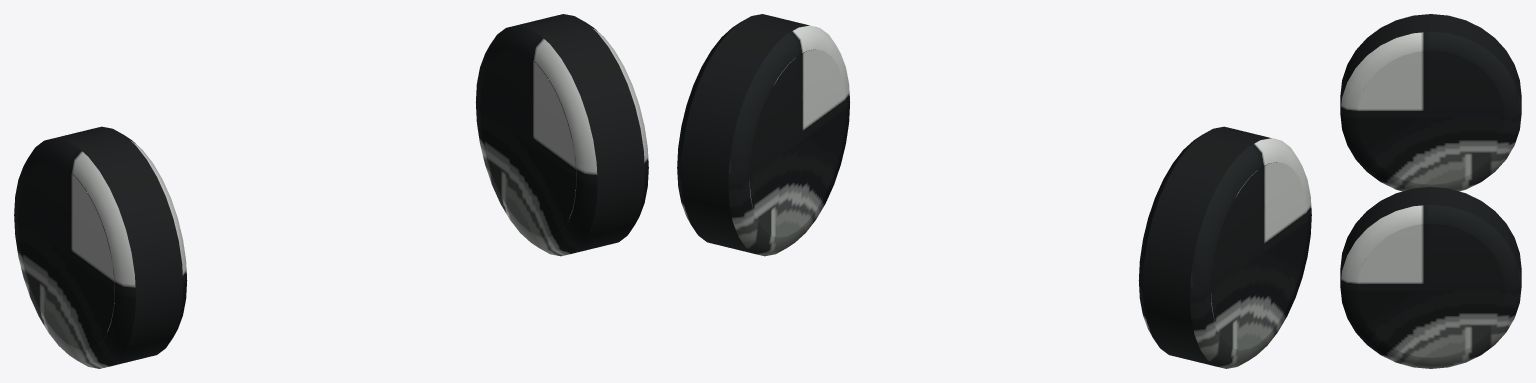
The model's file is hatch_83_popup_wheels_f.obj.
3 renders of one model, left to right at view 1: azimuth 30°, elevation 25°; view 2: azimuth 150°, elevation 25°; view 3: azimuth 270°, elevation 25°, orthographic. The views are drawn at different scales.
Parts seen in each view (by area): view 1: hatch_83_popup_wheels_f; view 2: hatch_83_popup_wheels_f; view 3: hatch_83_popup_wheels_f.
Part boxes in pixels (bbox=[...]): hatch_83_popup_wheels_f: bbox=[14, 14, 648, 368]; hatch_83_popup_wheels_f: bbox=[677, 14, 1311, 368]; hatch_83_popup_wheels_f: bbox=[1340, 14, 1521, 368].
Bounding box in the file's own units: 1.57 × 0.6071 × 0.6071.
1 material, 1 textured.
